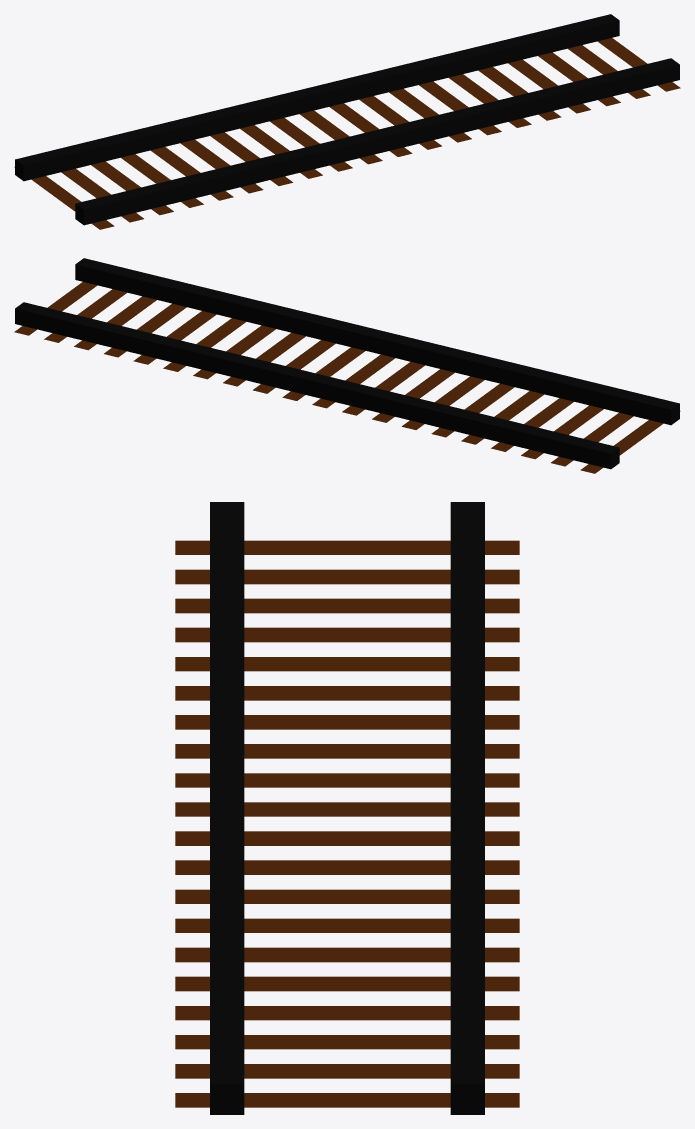
The model's file is train track.fbx.
3 renders of one model, top to bottom at view 1: azimuth 30°, elevation 25°; view 2: azimuth 150°, elevation 25°; view 3: azimuth 270°, elevation 25°, orthographic. The views are drawn at different scales.
Visible parts, largest first — view 1: Cube.006, Cube.007, Plane; view 2: Cube.007, Cube.006, Plane; view 3: Plane, Cube.006, Cube.007.
Part boxes in pixels (x1=…): Cube.006: x1=15, y1=14, x2=619, y2=181; Cube.007: x1=75, y1=58, x2=679, y2=225; Plane: x1=14, y1=38, x2=680, y2=229; Cube.007: x1=75, y1=258, x2=679, y2=425; Cube.006: x1=15, y1=302, x2=619, y2=469; Plane: x1=14, y1=282, x2=680, y2=473; Plane: x1=175, y1=540, x2=519, y2=1107; Cube.006: x1=450, y1=502, x2=484, y2=1114; Cube.007: x1=210, y1=502, x2=244, y2=1114.
Bounding box in the file's own units: 400 × 10 × 100.
